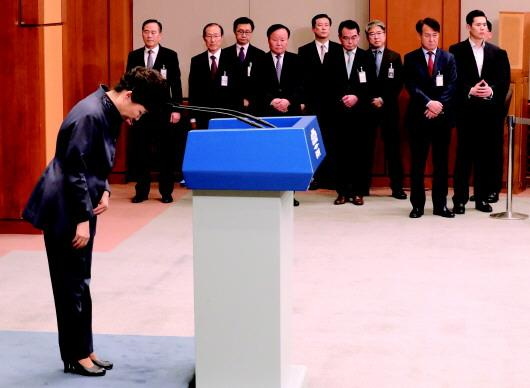bending: (32, 68, 165, 368)
up: (406, 17, 458, 226), (127, 18, 181, 204), (461, 8, 502, 220), (330, 16, 372, 209), (367, 20, 407, 199)
